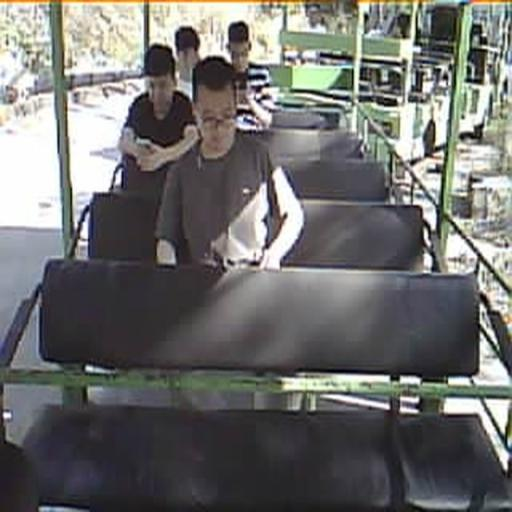persona: (153, 54, 306, 276), (118, 43, 199, 175), (224, 20, 276, 128), (173, 24, 203, 95)
